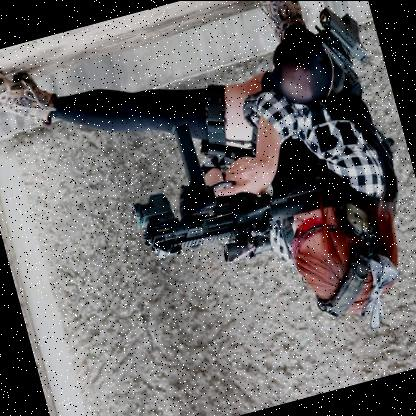rifle: (110, 81, 355, 281), (310, 0, 375, 80)
